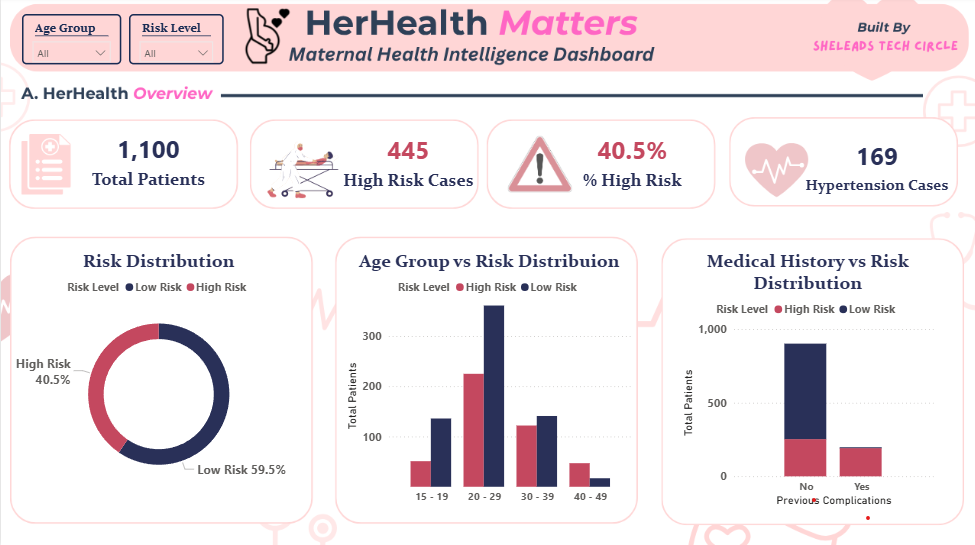

Layout of this report page (visuals, bound fields, positions):
{"tool":"powerbi","page":{"name":"A. Overview","canvas":[1280,720],"ordinal":0},"visuals":[{"type":"card","fields":{"Values":["Cleaned_Maternal_health_dataset.Total Patients"]},"box":[108.7,168.9,168.9,87.7],"z":0},{"type":"card","fields":{"Values":["Cleaned_Maternal_health_dataset.High Risk Cases"]},"box":[440.6,165.6,184.3,97.9],"z":1000},{"type":"card","fields":{"Values":["Cleaned_Maternal_health_dataset.% High Risk"]},"box":[734.4,165.6,184.3,97.9],"z":2000},{"type":"card","fields":{"Values":["Cleaned_Maternal_health_dataset.Hypertension Cases"]},"box":[1045.4,171.4,201.6,97.9],"z":3000},{"type":"donutChart","title":"Risk Distribution","fields":{"Category":["Cleaned_Maternal_health_dataset.Risk_Level"],"Y":["Cleaned_Maternal_health_dataset.Total Patients"]},"box":[15.8,329.8,381.6,319.7],"z":4000},{"type":"clusteredColumnChart","title":"Age Group vs Risk Distribuion","fields":{"Y":["Cleaned_Maternal_health_dataset.Total Patients"],"Series":["Cleaned_Maternal_health_dataset.Risk_Level"],"Category":["Cleaned_Maternal_health_dataset.Age_Range"]},"box":[446.4,329.8,385.9,341.3],"z":5000},{"type":"columnChart","title":"Medical History vs Risk Distribution","fields":{"Category":["Cleaned_Maternal_health_dataset.Previous_Complications"],"Y":["CountNonNull(Cleaned_Maternal_health_dataset.Patient_ID)"],"Series":["Cleaned_Maternal_health_dataset.Risk_Level"]},"box":[885.6,329.8,339.8,341.3],"z":6000},{"type":"slicer","fields":{"Values":["Cleaned_Maternal_health_dataset.Risk_Level"]},"box":[167,21.6,123.8,66.2],"z":7000},{"type":"slicer","fields":{"Values":["Cleaned_Maternal_health_dataset.Age_Range"]},"box":[27.4,21.6,129.6,66.2],"z":8000}]}

Visuals, with their boxes in screenshot pixels (x1, y1, x2, y2), scaled from the page's 1280x720 canvas onto the 975x545 screenshot:
card - Cleaned_Maternal_health_dataset.Total Patients: [left=83, top=128, right=211, bottom=194]
card - Cleaned_Maternal_health_dataset.High Risk Cases: [left=336, top=125, right=476, bottom=199]
card - Cleaned_Maternal_health_dataset.% High Risk: [left=559, top=125, right=700, bottom=199]
card - Cleaned_Maternal_health_dataset.Hypertension Cases: [left=796, top=130, right=950, bottom=204]
"Risk Distribution" donutChart: [left=12, top=250, right=303, bottom=492]
"Age Group vs Risk Distribuion" clusteredColumnChart: [left=340, top=250, right=634, bottom=508]
"Medical History vs Risk Distribution" columnChart: [left=675, top=250, right=933, bottom=508]
slicer - Cleaned_Maternal_health_dataset.Risk_Level: [left=127, top=16, right=222, bottom=66]
slicer - Cleaned_Maternal_health_dataset.Age_Range: [left=21, top=16, right=120, bottom=66]
